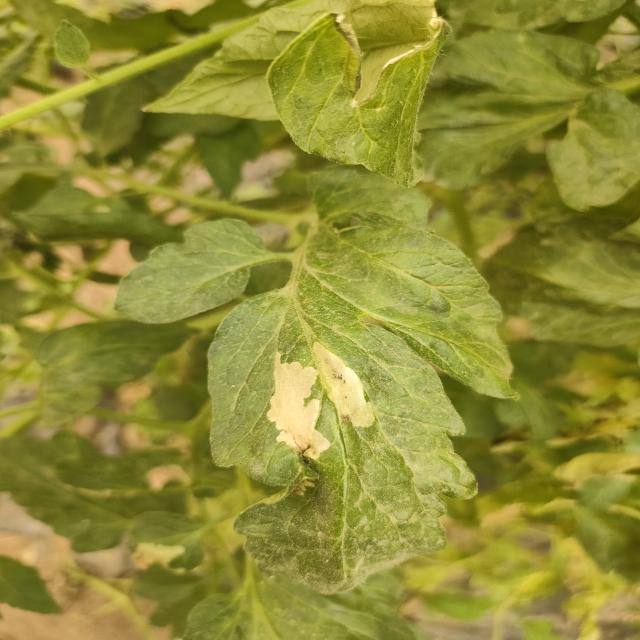Tuta absoluta: (263, 349, 330, 462), (307, 332, 379, 436)
